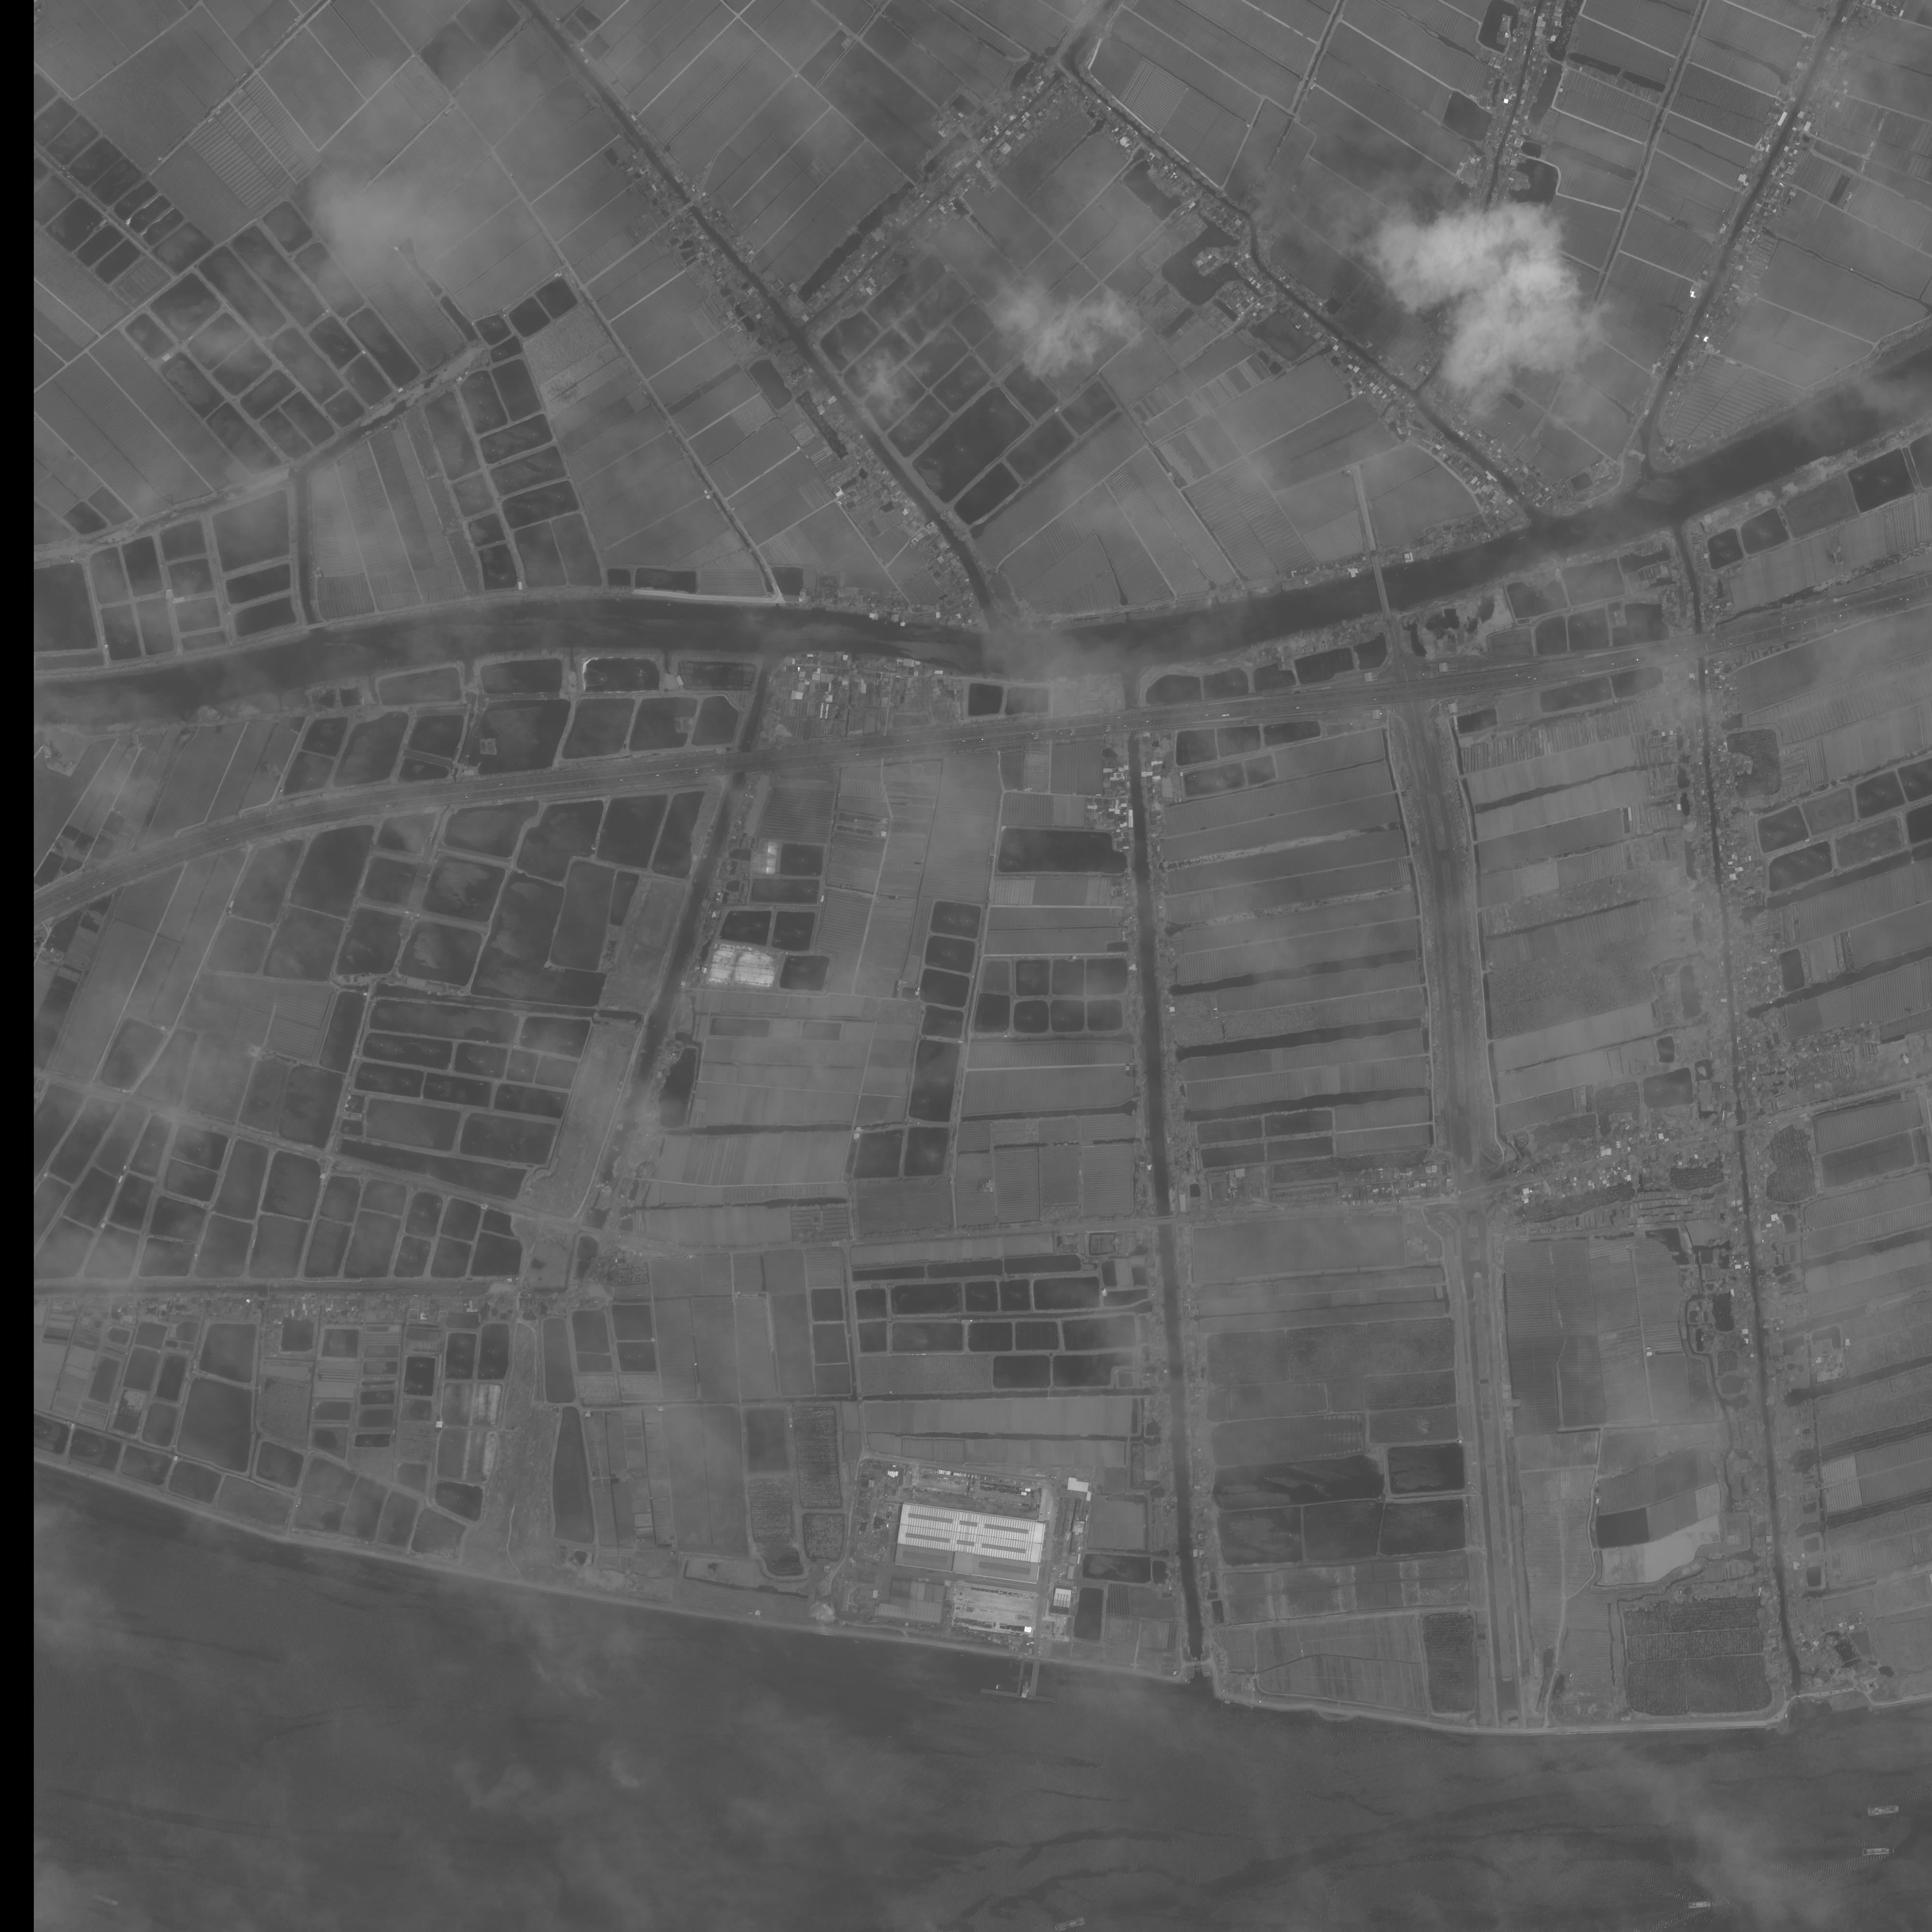harbor: (977, 1654, 1063, 1704)
ship: (88, 1890, 124, 1913), (1865, 1803, 1902, 1817), (1054, 1918, 1085, 1932), (1861, 1847, 1897, 1858), (1684, 1900, 1716, 1911)
